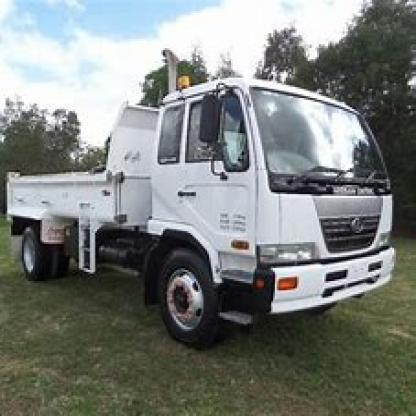dump_truck: (11, 65, 414, 342)
